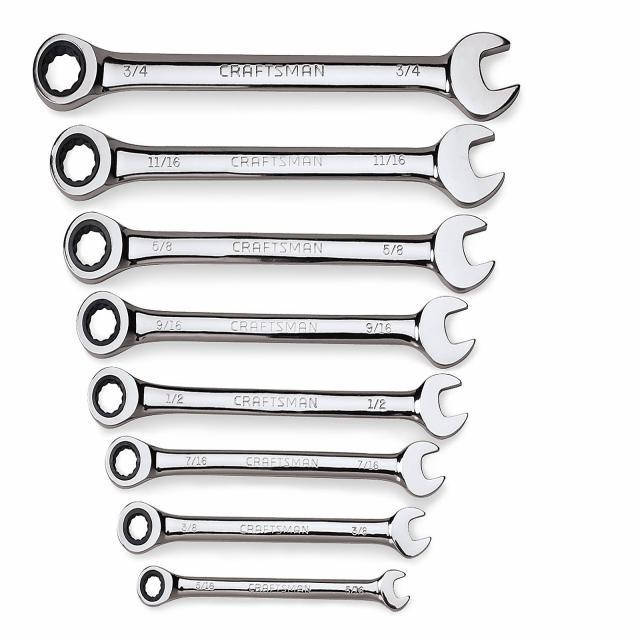wrench: (31, 22, 522, 124), (44, 120, 512, 210), (58, 204, 498, 294), (72, 292, 478, 368), (84, 364, 469, 439), (100, 438, 449, 499), (113, 499, 434, 560), (132, 563, 412, 614)
